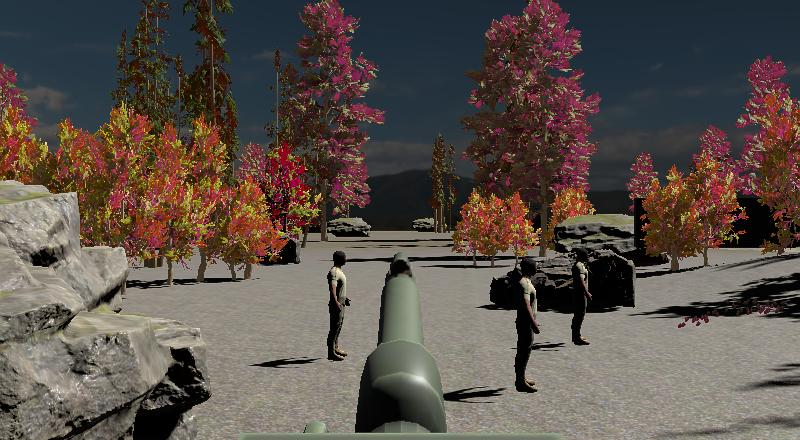Human: (568, 244, 596, 346)
